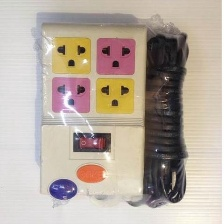three_eye_plug: (32, 17, 153, 205)
